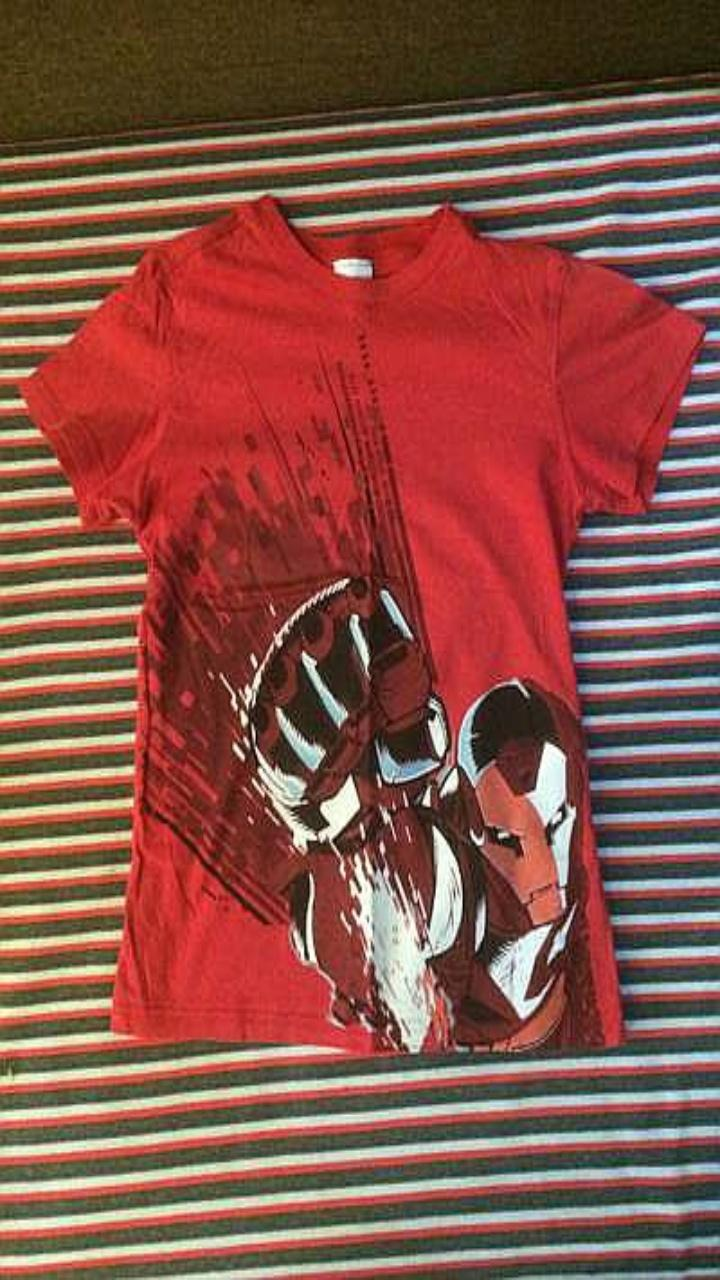T-Shirt: (20, 194, 704, 1053)
